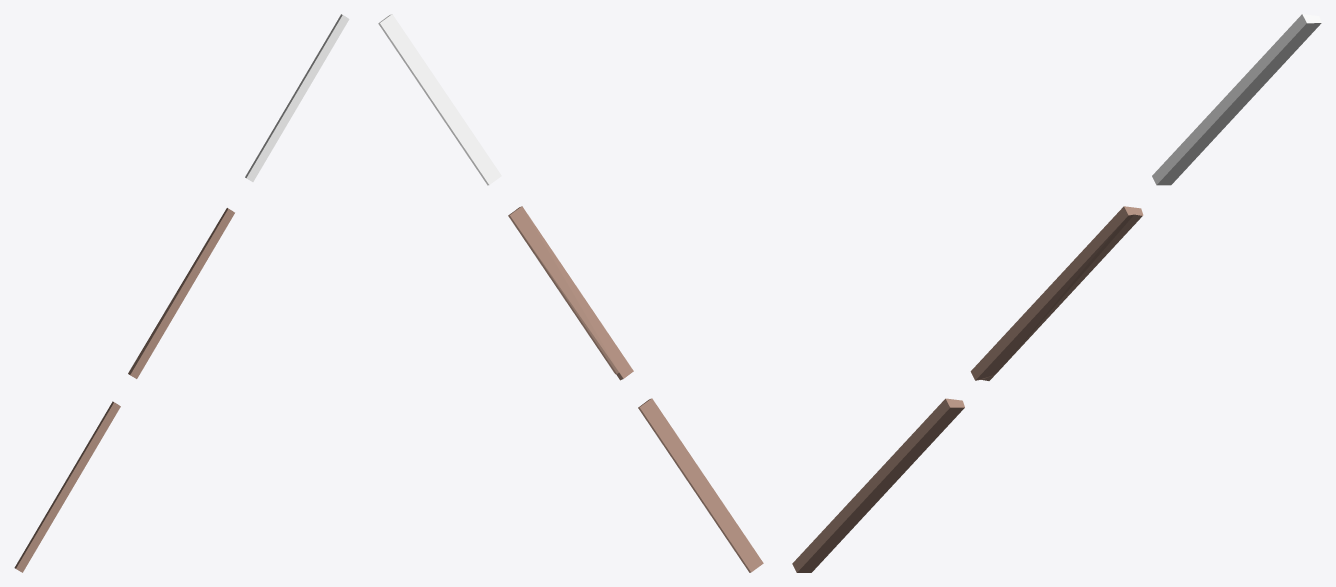
The picture shows the model from 3 angles, left to right: view 1: azimuth 30°, elevation 25°; view 2: azimuth 150°, elevation 25°; view 3: azimuth 330°, elevation 25°; orthographic projection. The views are drawn at different scales.
Parts seen in each view (by area): view 1: mesh; view 2: mesh; view 3: mesh.
Part boxes in pixels (<box>): mesh: <box>14,14,349,572</box>; mesh: <box>378,14,763,572</box>; mesh: <box>792,14,1321,572</box>.
Bounding box in the file's own units: 5.42 × 6.86 × 0.6526.
